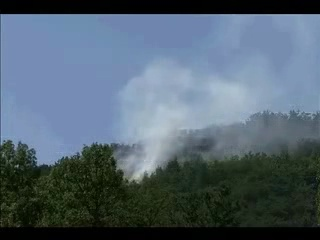smoke: (177, 19, 320, 165), (104, 58, 175, 183)
